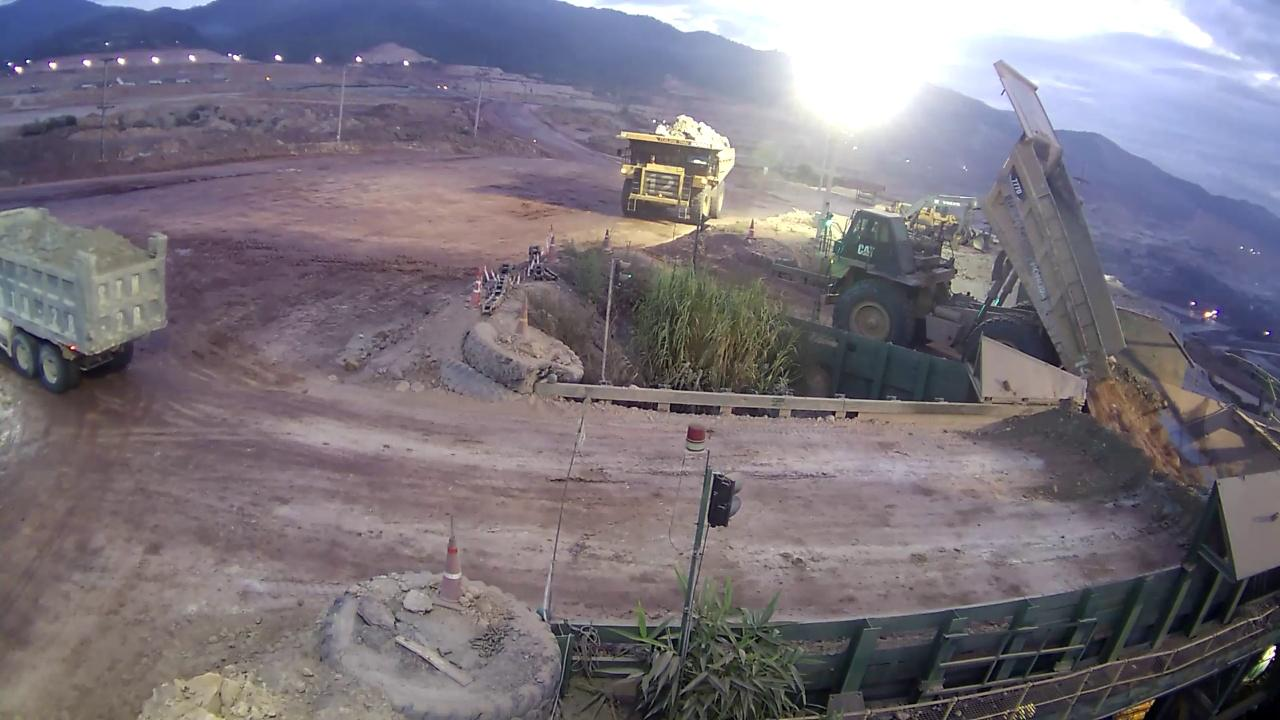dumping_soil: (817, 42, 1129, 406)
front_number: (644, 171, 680, 198)
full_load: (650, 107, 728, 151)
mining_truck: (614, 105, 735, 224)
tail_number: (1069, 349, 1104, 388)
truck_size: (1008, 164, 1031, 207)
